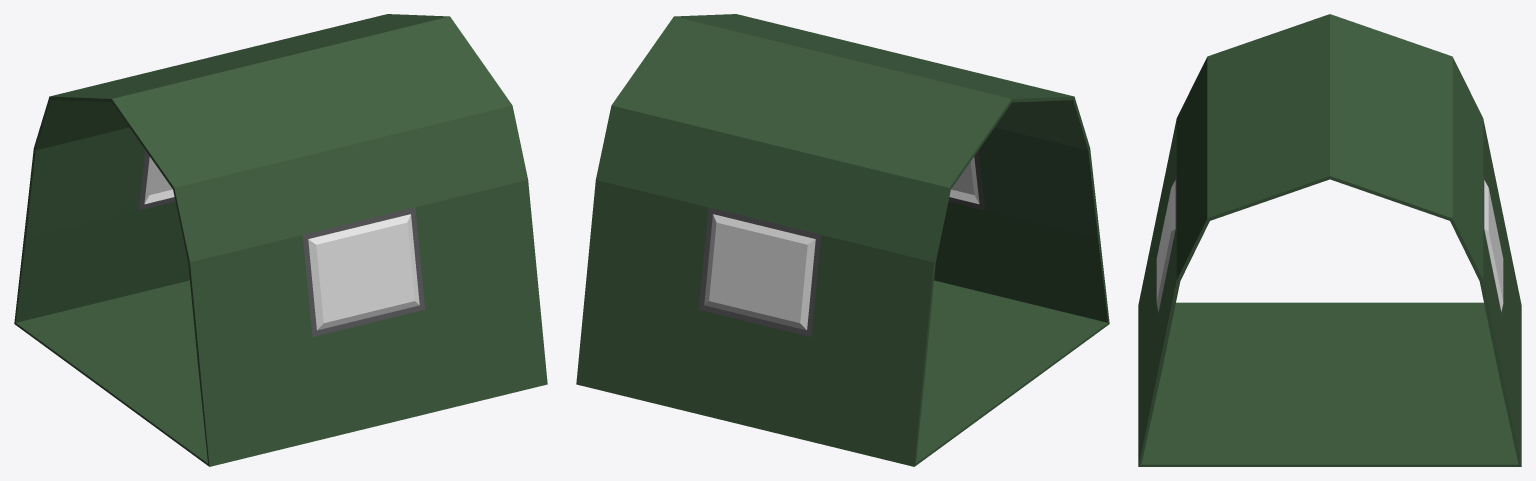
3 renders of one model, left to right at view 1: azimuth 30°, elevation 25°; view 2: azimuth 150°, elevation 25°; view 3: azimuth 270°, elevation 25°, orthographic.
Parts seen in each view (by area): view 1: Plane; view 2: Plane; view 3: Plane.
Part boxes in pixels (bbox=[...]): Plane: bbox=[14, 14, 547, 466]; Plane: bbox=[576, 14, 1109, 466]; Plane: bbox=[1138, 14, 1521, 466].
Bounding box in the file's own units: 200 × 168 × 200.
